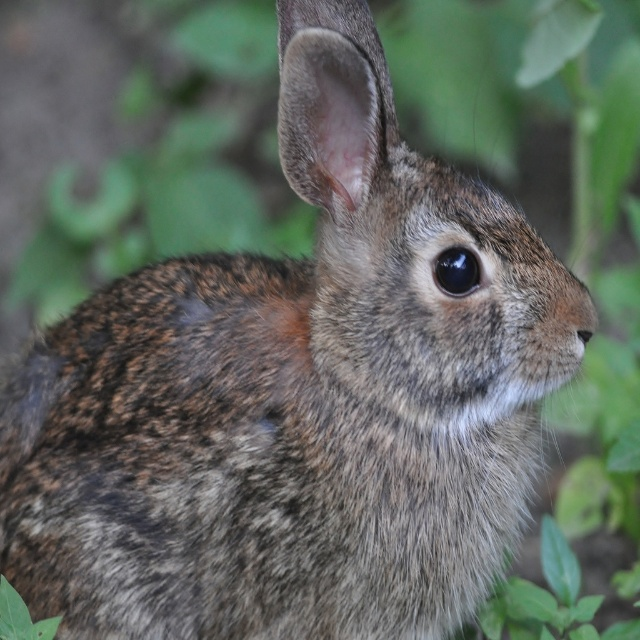Rabbit: (0, 0, 603, 640)
